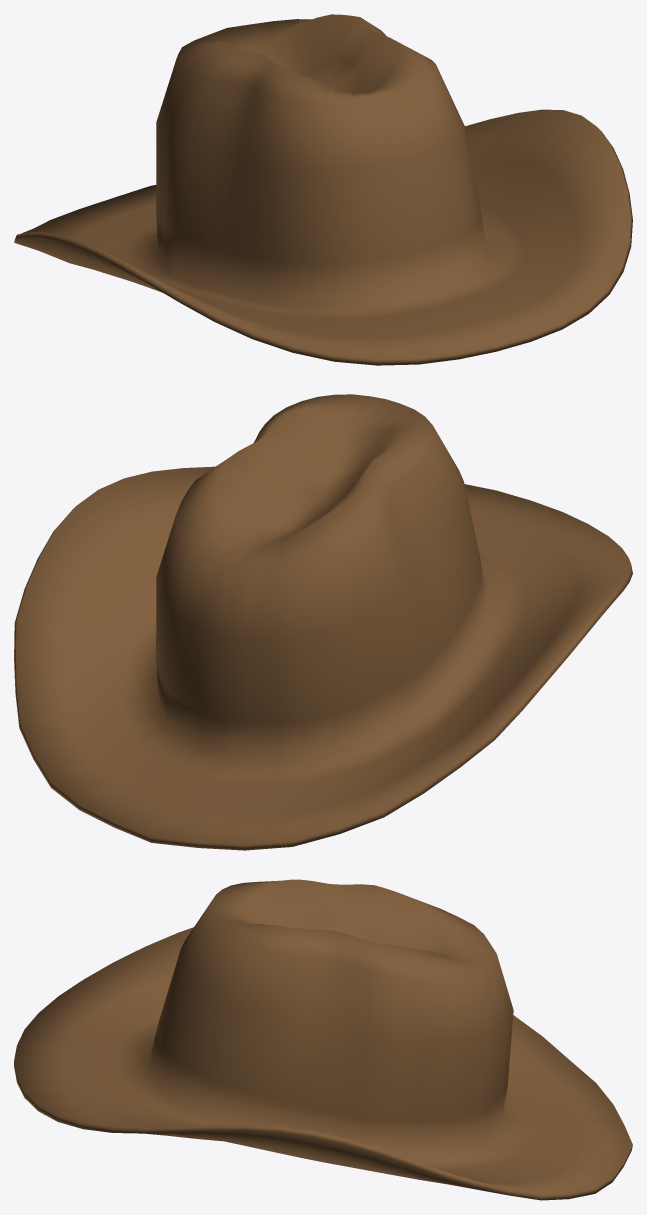
The model's file is cowboy_hat.glb.
3 renders of one model, top to bottom at view 1: azimuth 30°, elevation 25°; view 2: azimuth 150°, elevation 25°; view 3: azimuth 270°, elevation 25°, orthographic. The views are drawn at different scales.
Visible parts, largest first — view 1: cowboy_hat; view 2: cowboy_hat; view 3: cowboy_hat.
Part boxes in pixels (box(x1,y1,x2,y2)): cowboy_hat: box(14, 14, 632, 365); cowboy_hat: box(14, 394, 632, 850); cowboy_hat: box(14, 879, 632, 1200).
Bounding box in the file's own units: 0.3395 × 0.1739 × 0.3949.
